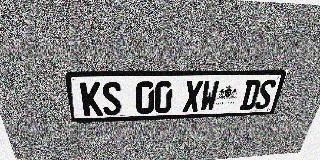0: (136, 81, 155, 114), (154, 81, 173, 113)
D: (239, 80, 262, 110)
K: (80, 82, 103, 116)
S: (101, 82, 122, 115), (254, 80, 277, 109)
W: (199, 80, 220, 111)
X: (182, 81, 203, 112)
